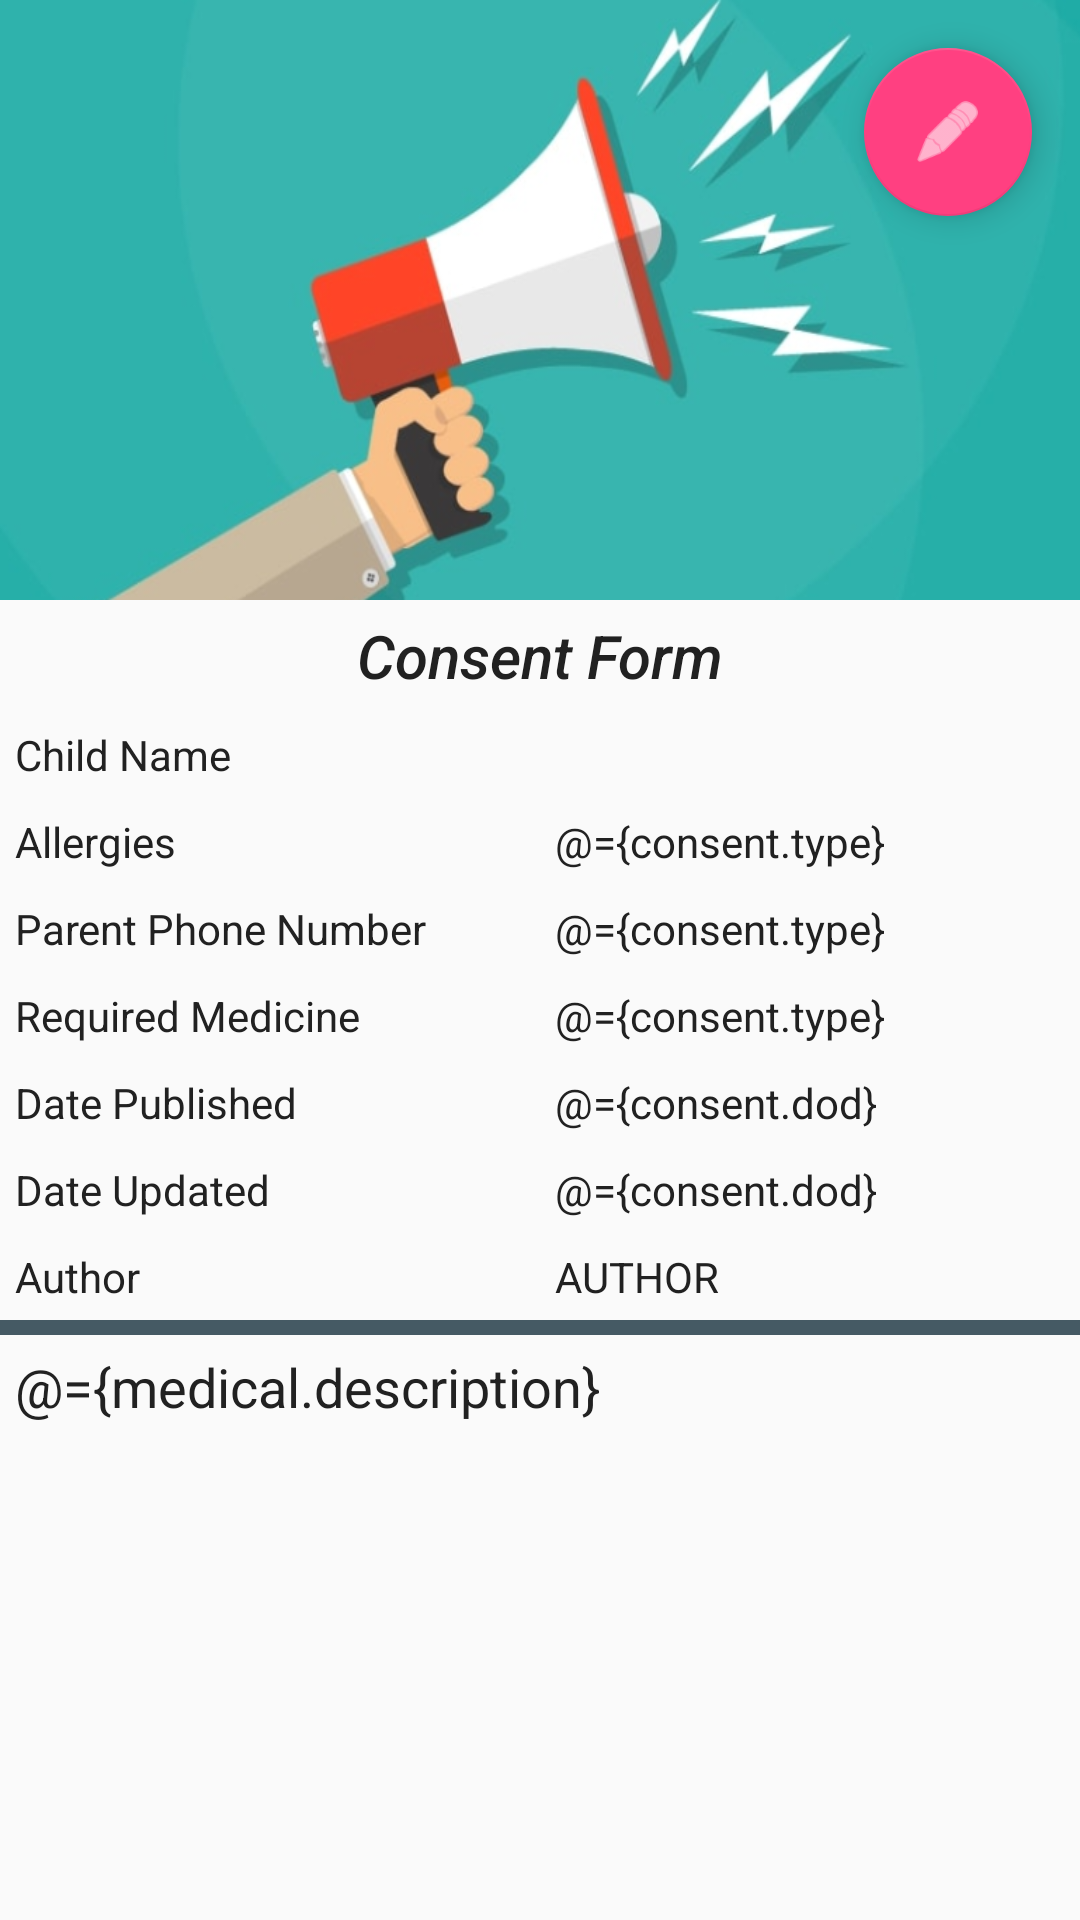

Screen size 1080x1920. Icon name, then its box in pixels as (x1, y1, x2, y2):
edit: (864, 48, 1032, 216)
